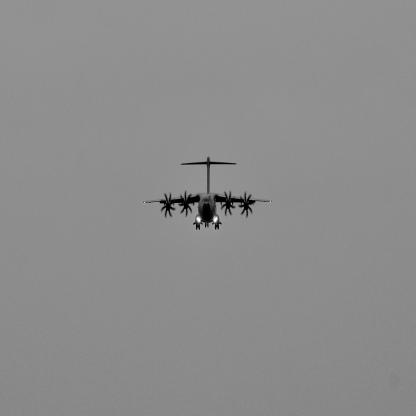A400M: (144, 157, 274, 231)
